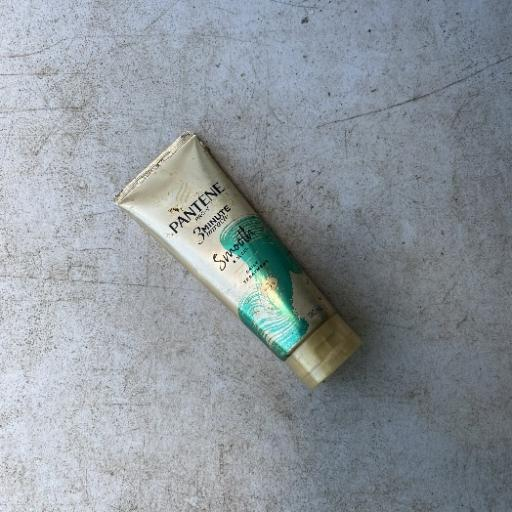Plastic: (112, 128, 364, 392)
